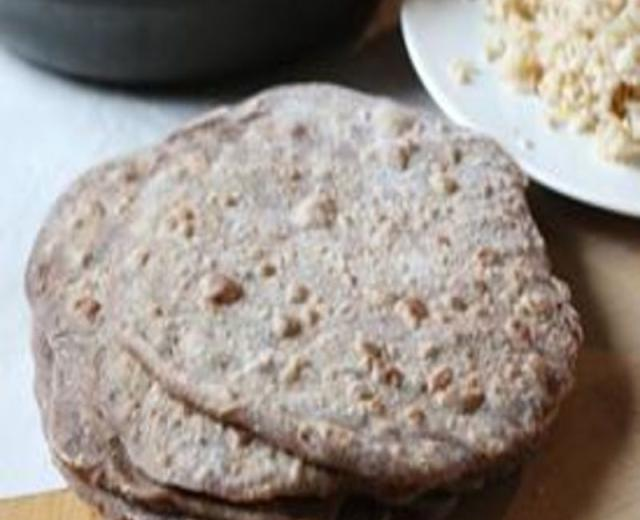chapati: (107, 86, 582, 490)
